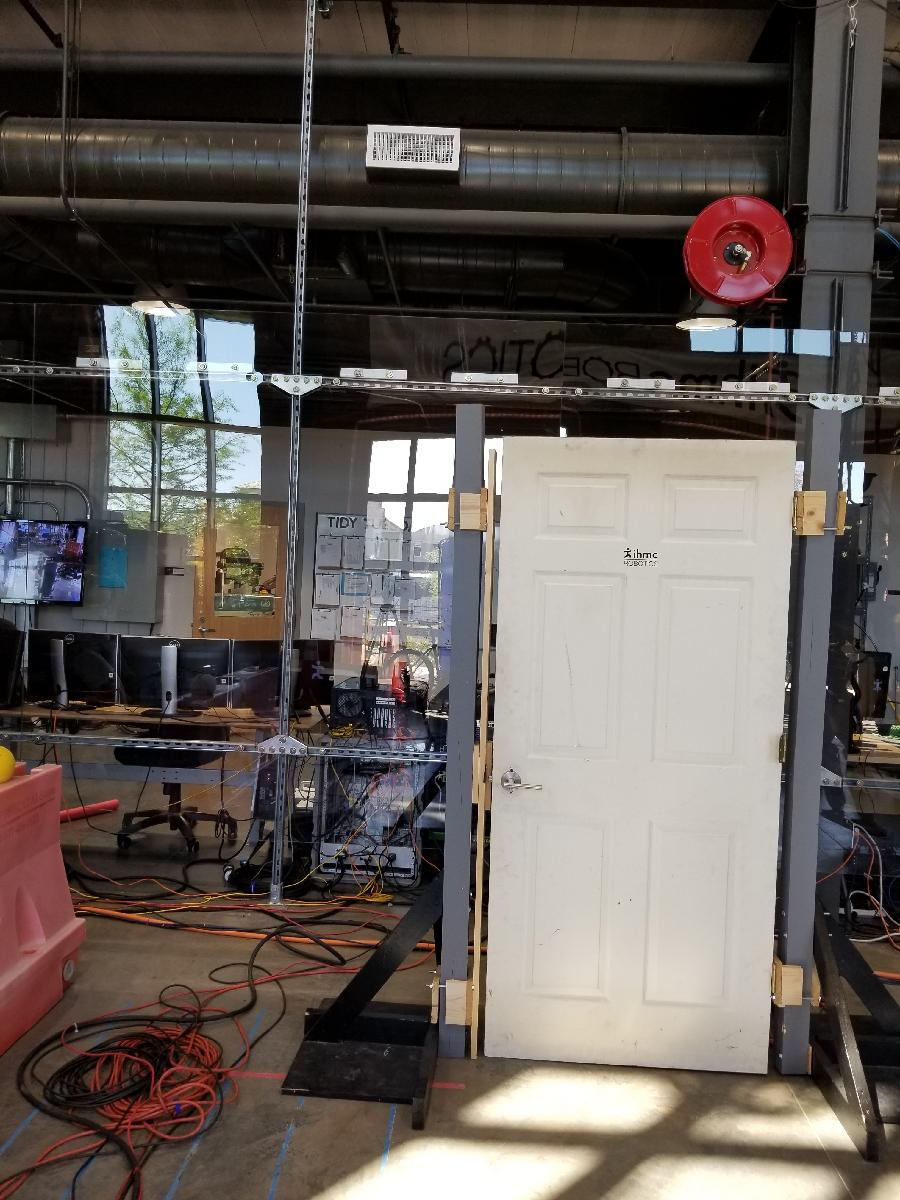door: (482, 431, 800, 1083)
doorHandle: (497, 770, 545, 799)
